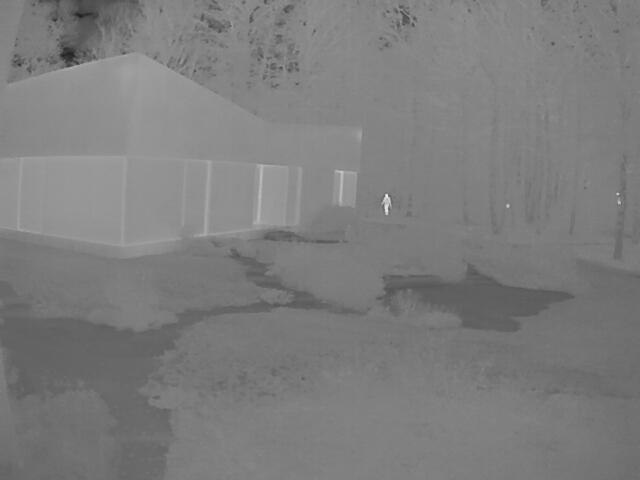person: (381, 193, 392, 215)
